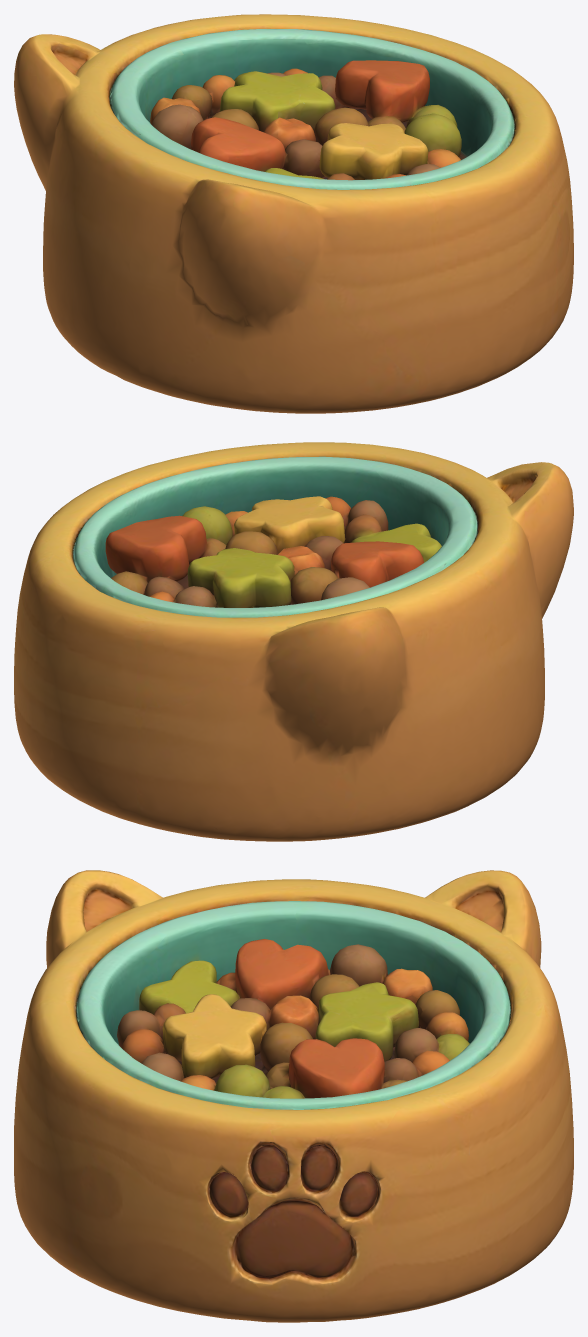
File: bowl_food_8.glb
3 views of the same model, one above another, from view 1: azimuth 30°, elevation 25°; view 2: azimuth 150°, elevation 25°; view 3: azimuth 270°, elevation 25° (orthographic). The views are drawn at different scales.
Visible parts, largest first — view 1: tripo_node_776409de-15a5-42e0-98c5-01de5585c8cb; view 2: tripo_node_776409de-15a5-42e0-98c5-01de5585c8cb; view 3: tripo_node_776409de-15a5-42e0-98c5-01de5585c8cb.
Boxes of the visible parts, box(x1,y1,x2,y2) form: tripo_node_776409de-15a5-42e0-98c5-01de5585c8cb: box(14, 14, 573, 413); tripo_node_776409de-15a5-42e0-98c5-01de5585c8cb: box(14, 442, 573, 841); tripo_node_776409de-15a5-42e0-98c5-01de5585c8cb: box(14, 870, 573, 1322).
Bounding box in the file's own units: 0.3661 × 0.1834 × 0.3658.
Materials: 1 (1 with a texture image).
